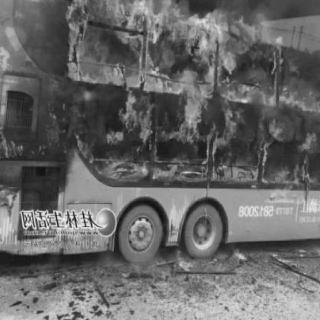Fire: (4, 7, 316, 181)
